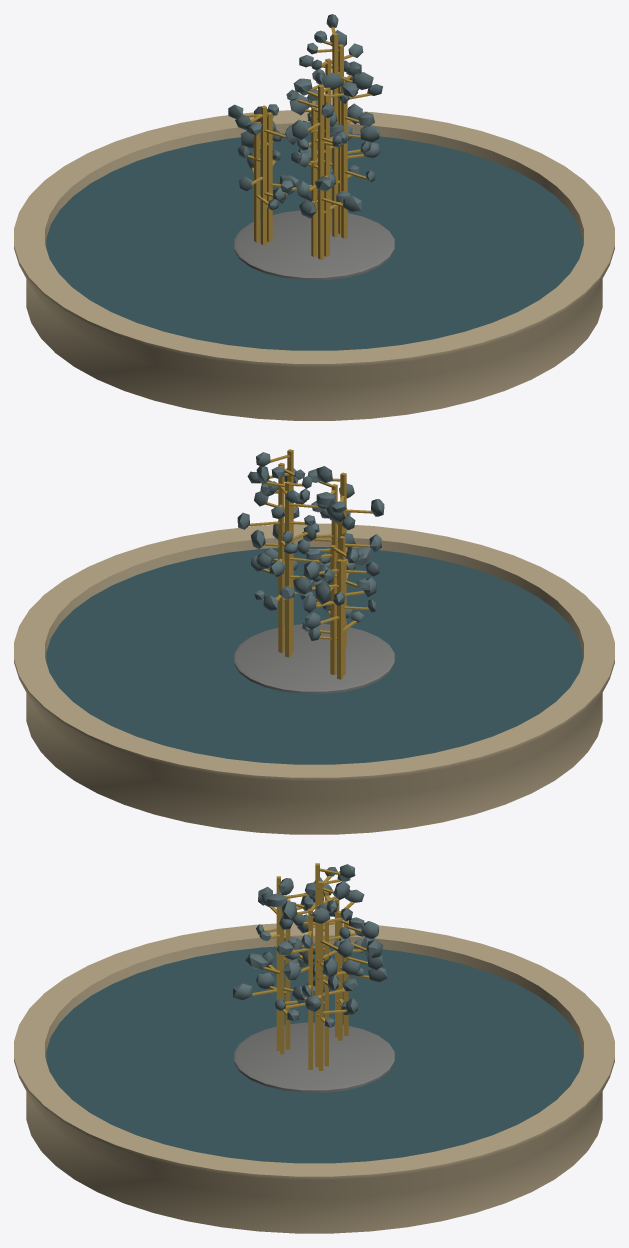
Rendered from mon_glasbrunnen.glb.
3 views of the same model, one above another, from view 1: azimuth 30°, elevation 25°; view 2: azimuth 150°, elevation 25°; view 3: azimuth 270°, elevation 25° (orthographic).
Visible parts, largest first — view 1: mon_glasbrunnen; view 2: mon_glasbrunnen; view 3: mon_glasbrunnen.
Part boxes in pixels (x1,y1,x2,y2): mon_glasbrunnen: (14, 14, 614, 420); mon_glasbrunnen: (14, 449, 614, 834); mon_glasbrunnen: (14, 863, 614, 1233).
Size of the model in its own units: 9.28 by 4.51 by 9.28.
